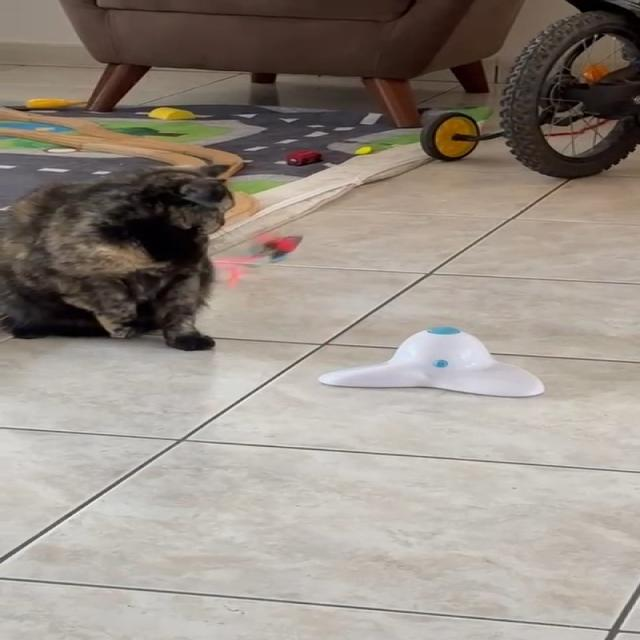authorized: (0, 162, 235, 351)
